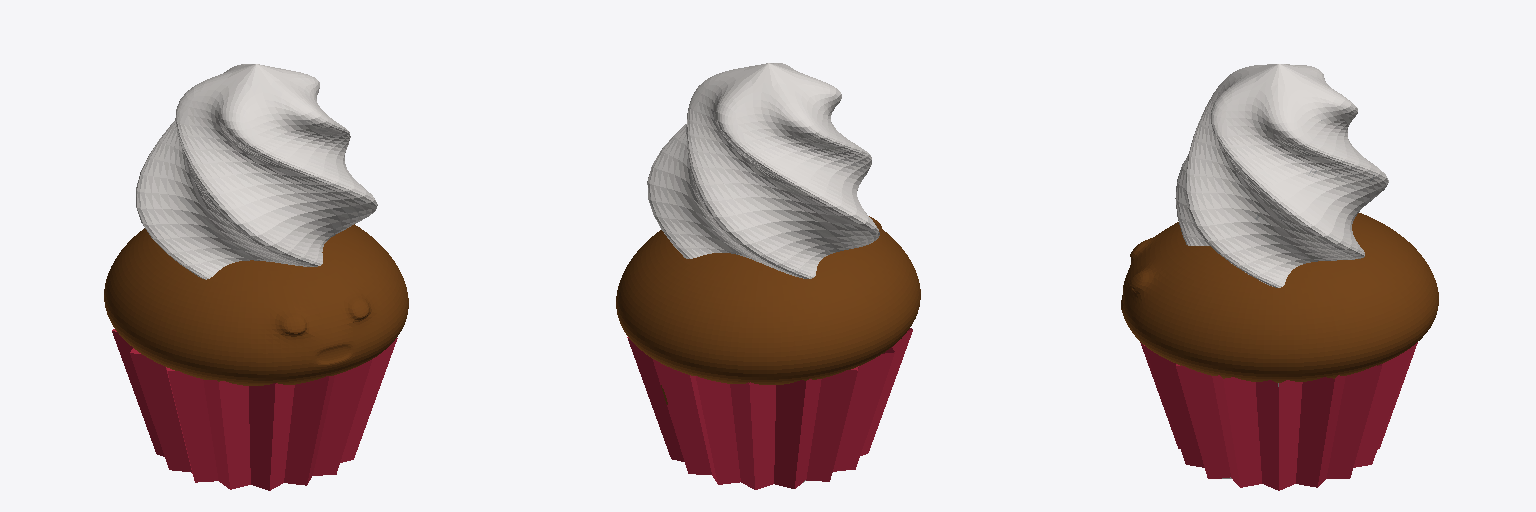
3 renders of one model, left to right at view 1: azimuth 30°, elevation 25°; view 2: azimuth 150°, elevation 25°; view 3: azimuth 270°, elevation 25°, orthographic.
Parts seen in each view (by area): view 1: Star.002, Sphere, Circle.001; view 2: Star.002, Sphere, Circle.001; view 3: Sphere, Star.002, Circle.001.
Boxes of the visible parts, box(x1,y1,x2,y2) form: Star.002: box(136, 64, 377, 279); Sphere: box(104, 224, 408, 385); Circle.001: box(112, 329, 397, 490); Star.002: box(647, 63, 879, 278); Sphere: box(616, 216, 920, 384); Circle.001: box(627, 328, 912, 489); Sphere: box(1121, 213, 1438, 382); Star.002: box(1175, 64, 1388, 287); Circle.001: box(1140, 342, 1417, 490).
Bounding box in the file's own units: 1.17 × 1.66 × 1.24.
Materials: 2 (1 with a texture image).